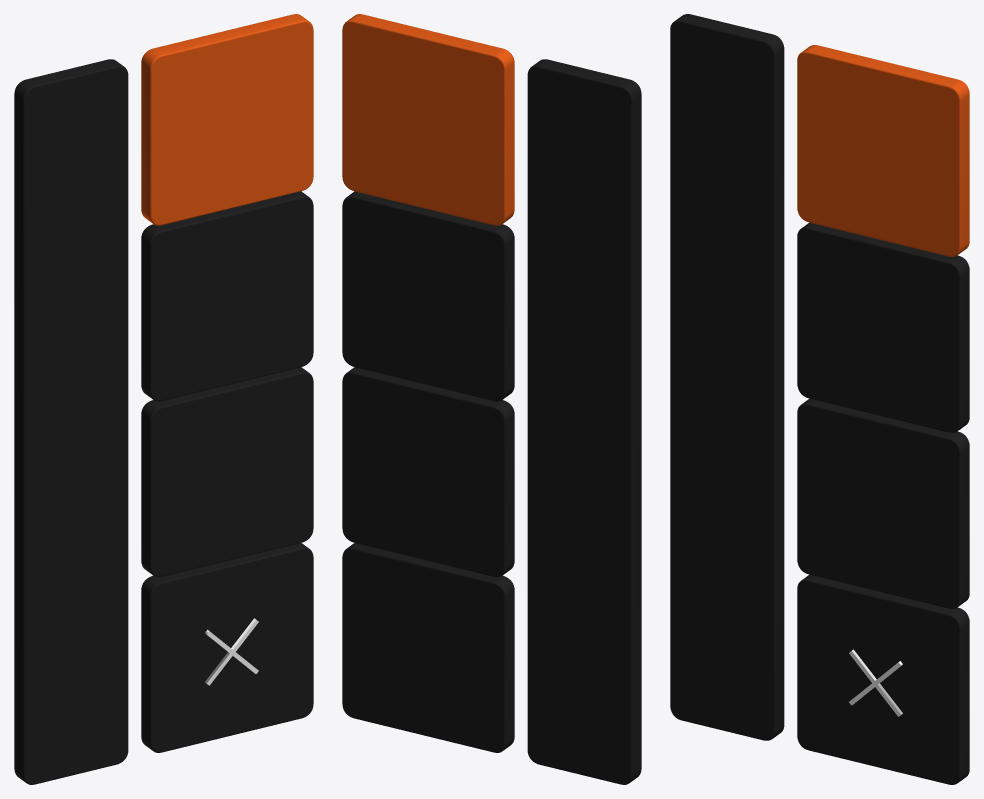
Rendered from ResourcesPanel.fbx.
The picture shows the model from 3 angles, left to right: view 1: azimuth 30°, elevation 25°; view 2: azimuth 150°, elevation 25°; view 3: azimuth 330°, elevation 25°; orthographic projection.
Visible parts, largest first — view 1: Curve.051, Curve.049, Curve.053, Curve.054, Curve.055, Curve.031; view 2: Curve.051, Curve.049, Curve.053, Curve.054, Curve.055; view 3: Curve.051, Curve.049, Curve.054, Curve.053, Curve.055, Curve.031.
Part boxes in pixels (box(x1,y1,x2,y2)): Curve.051: box(14, 59, 128, 784); Curve.049: box(141, 14, 313, 225); Curve.053: box(141, 191, 313, 401); Curve.054: box(141, 367, 313, 577); Curve.055: box(141, 543, 313, 752); Curve.031: box(205, 618, 258, 685); Curve.051: box(527, 59, 641, 784); Curve.049: box(342, 14, 514, 225); Curve.053: box(342, 191, 514, 401); Curve.054: box(342, 367, 514, 577); Curve.055: box(342, 543, 514, 752); Curve.051: box(670, 14, 784, 740); Curve.049: box(797, 45, 969, 256); Curve.054: box(797, 398, 969, 608); Curve.053: box(797, 222, 969, 432); Curve.055: box(797, 574, 969, 784); Curve.031: box(849, 649, 902, 716).
Size of the model in its own units: 100 by 230 by 7.16.
